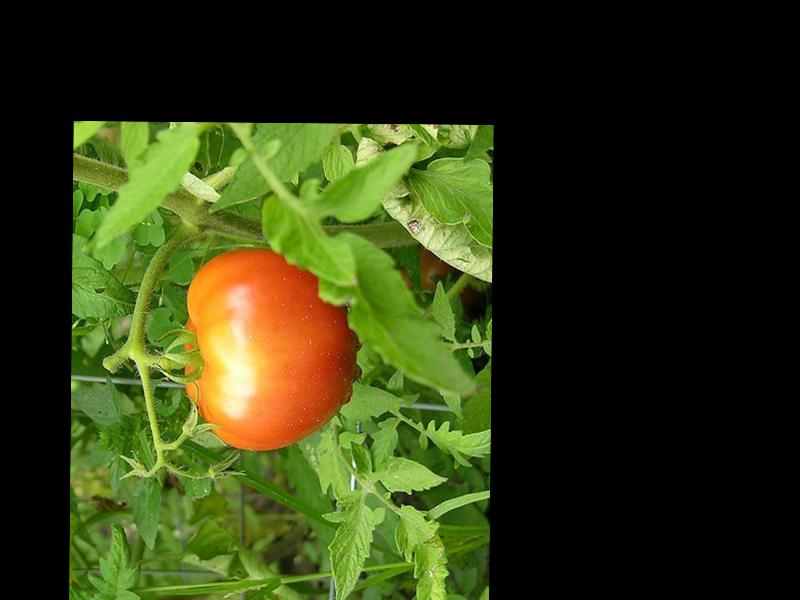Tomato: (182, 248, 354, 449)
